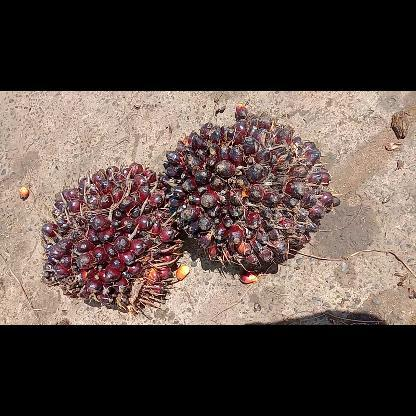Kurang masak: (160, 100, 341, 274), (39, 160, 183, 314)
